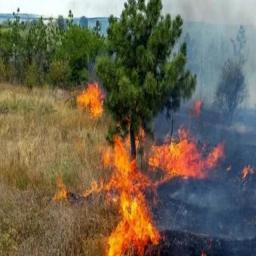Low smoke: (73, 9, 256, 256)
